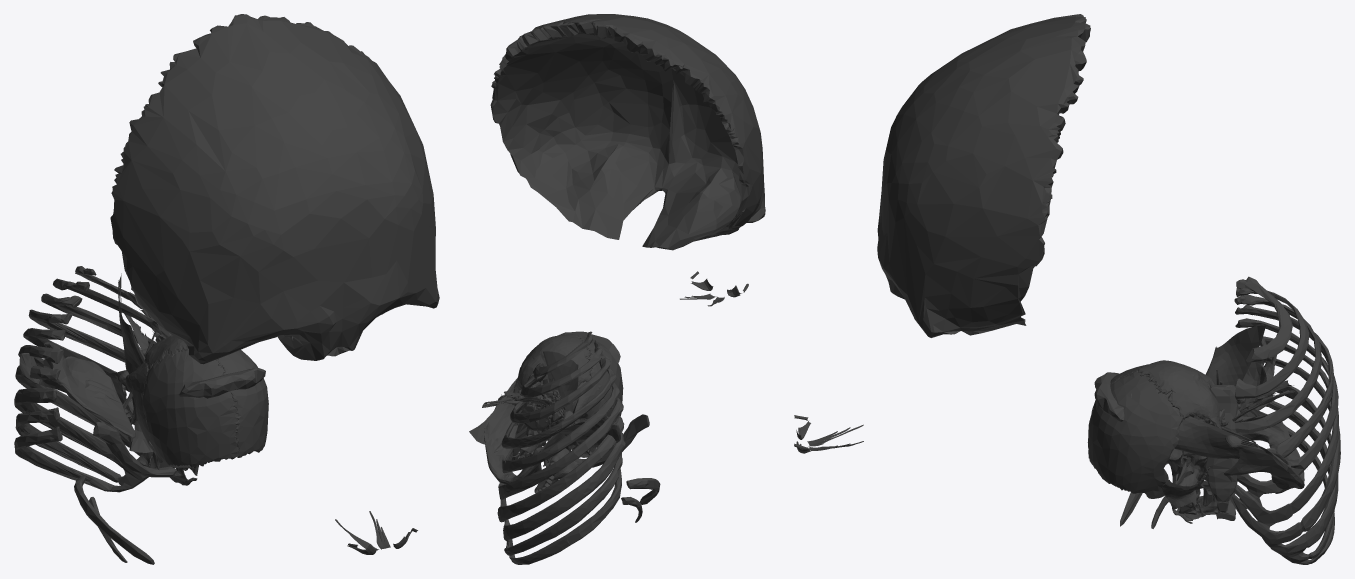
Rendered from sharedassets35.glb.
3 renders of one model, left to right at view 1: azimuth 30°, elevation 25°; view 2: azimuth 150°, elevation 25°; view 3: azimuth 270°, elevation 25°, orthographic. The views are drawn at different scales.
Parts seen in each view (by area): view 1: 0079_Frontal__001097, 0067_Parietal, R__001095, 0001_Scapula, L__000982, 0068_Parietal, L__001094, 0135_Eighth rib _08_, R__002280, 0118_Manubrium__001162, 0123_Eighth rib _08_, L__002292, 0181_Sternocleidomastoid, R__1000392, 0137_Tenth rib _10_, R__002282, 0136_Ninth rib _09_, R__002281, 0002_Clavicle, L__000981, 0125_Tenth rib _10_, L__002294 (+10 smaller); view 2: 0079_Frontal__001097, 0132_Seventh rib _07_, L__002291, 0069_Occipital__001132, 0131_Sixth rib _06_, L__002290, 0123_Eighth rib _08_, L__002292, 0124_Ninth rib _09_, L__002293, 0183_Sternocleidomastoid, L__1000391, 0135_Eighth rib _08_, R__002280, 0066_Mandible_body_001091, 0136_Ninth rib _09_, R__002281, 0137_Tenth rib _10_, R__002282, 0142_Fifth rib _05_, R__002277 (+16 smaller); view 3: 0079_Frontal__001097, 0068_Parietal, L__001094, 0069_Occipital__001132, 0066_Mandible_body_001091, 0183_Sternocleidomastoid, L__1000391, 0181_Sternocleidomastoid, R__1000392, 0131_Sixth rib _06_, L__002290, 0120_Body of sternum__001163, 0132_Seventh rib _07_, L__002291, 0117_Sphenoid__001143, 0142_Fifth rib _05_, R__002277, 0140_Third rib _03_, R__002275 (+7 smaller).
Boxes of the visible parts, x1=… form: 0079_Frontal__001097: x1=110, y1=14, x2=439, y2=364; 0067_Parietal, R__001095: x1=142, y1=349, x2=239, y2=467; 0001_Scapula, L__000982: x1=19, y1=341, x2=135, y2=438; 0068_Parietal, L__001094: x1=217, y1=350, x2=268, y2=457; 0135_Eighth rib _08_, R__002280: x1=14, y1=388, x2=148, y2=482; 0118_Manubrium__001162: x1=178, y1=366, x2=265, y2=398; 0123_Eighth rib _08_, L__002292: x1=15, y1=388, x2=146, y2=482; 0181_Sternocleidomastoid, R__1000392: x1=118, y1=273, x2=190, y2=467; 0137_Tenth rib _10_, R__002282: x1=14, y1=426, x2=131, y2=492; 0136_Ninth rib _09_, R__002281: x1=15, y1=408, x2=138, y2=488; 0002_Clavicle, L__000981: x1=93, y1=422, x2=176, y2=477; 0125_Tenth rib _10_, L__002294: x1=16, y1=426, x2=129, y2=491; 0079_Frontal__001097: x1=490, y1=14, x2=765, y2=250; 0132_Seventh rib _07_, L__002291: x1=497, y1=416, x2=623, y2=522; 0069_Occipital__001132: x1=513, y1=334, x2=592, y2=412; 0131_Sixth rib _06_, L__002290: x1=498, y1=398, x2=622, y2=500; 0123_Eighth rib _08_, L__002292: x1=503, y1=434, x2=624, y2=541; 0124_Ninth rib _09_, L__002293: x1=504, y1=460, x2=618, y2=555; 0183_Sternocleidomastoid, L__1000391: x1=469, y1=378, x2=517, y2=462; 0135_Eighth rib _08_, R__002280: x1=505, y1=432, x2=625, y2=542; 0066_Mandible_body_001091: x1=484, y1=395, x2=573, y2=484; 0136_Ninth rib _09_, R__002281: x1=507, y1=453, x2=622, y2=554; 0137_Tenth rib _10_, R__002282: x1=509, y1=469, x2=621, y2=563; 0142_Fifth rib _05_, R__002277: x1=502, y1=383, x2=616, y2=473; 0079_Frontal__001097: x1=877, y1=14, x2=1090, y2=337; 0068_Parietal, L__001094: x1=1087, y1=370, x2=1183, y2=498; 0069_Occipital__001132: x1=1138, y1=360, x2=1221, y2=428; 0066_Mandible_body_001091: x1=1224, y1=406, x2=1304, y2=493; 0183_Sternocleidomastoid, L__1000391: x1=1131, y1=393, x2=1305, y2=471; 0181_Sternocleidomastoid, R__1000392: x1=1176, y1=325, x2=1265, y2=481; 0131_Sixth rib _06_, L__002290: x1=1236, y1=336, x2=1338, y2=526; 0120_Body of sternum__001163: x1=1204, y1=384, x2=1238, y2=501; 0132_Seventh rib _07_, L__002291: x1=1230, y1=358, x2=1340, y2=547; 0117_Sphenoid__001143: x1=1162, y1=448, x2=1210, y2=510; 0142_Fifth rib _05_, R__002277: x1=1237, y1=318, x2=1338, y2=497; 0140_Third rib _03_, R__002275: x1=1235, y1=294, x2=1321, y2=432.
Bounding box in the file's own units: 0.175 × 0.3091 × 0.2809.
1 material, 1 textured.
